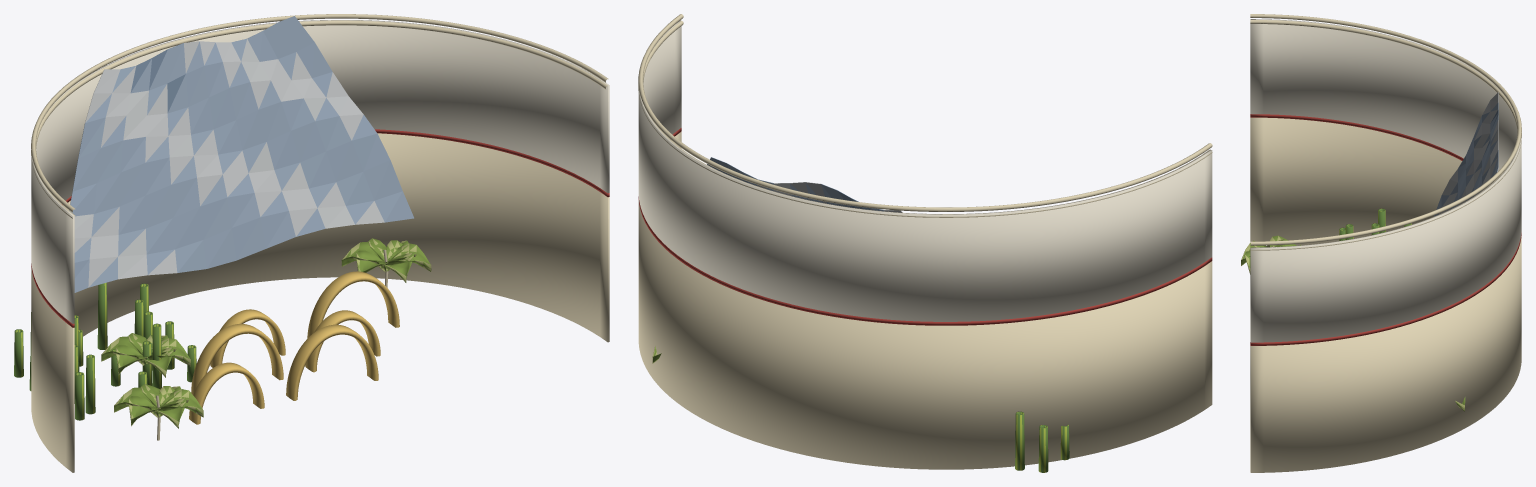
File: soup_backdrop.glb
3 renders of one model, left to right at view 1: azimuth 30°, elevation 25°; view 2: azimuth 150°, elevation 25°; view 3: azimuth 270°, elevation 25°, orthographic. The views are drawn at different scales.
Visible parts, largest first — view 1: soup_backdrop_Palette; view 2: soup_backdrop_Palette; view 3: soup_backdrop_Palette.
Boxes of the visible parts, bbox=[...] form: soup_backdrop_Palette: bbox=[14, 14, 609, 472]; soup_backdrop_Palette: bbox=[638, 14, 1212, 472]; soup_backdrop_Palette: bbox=[1241, 14, 1521, 472].
Bounding box in the file's own units: 50.4 × 23.72 × 26.08.
